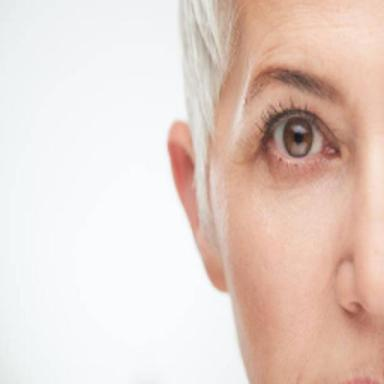normal skin: (169, 1, 384, 384)
